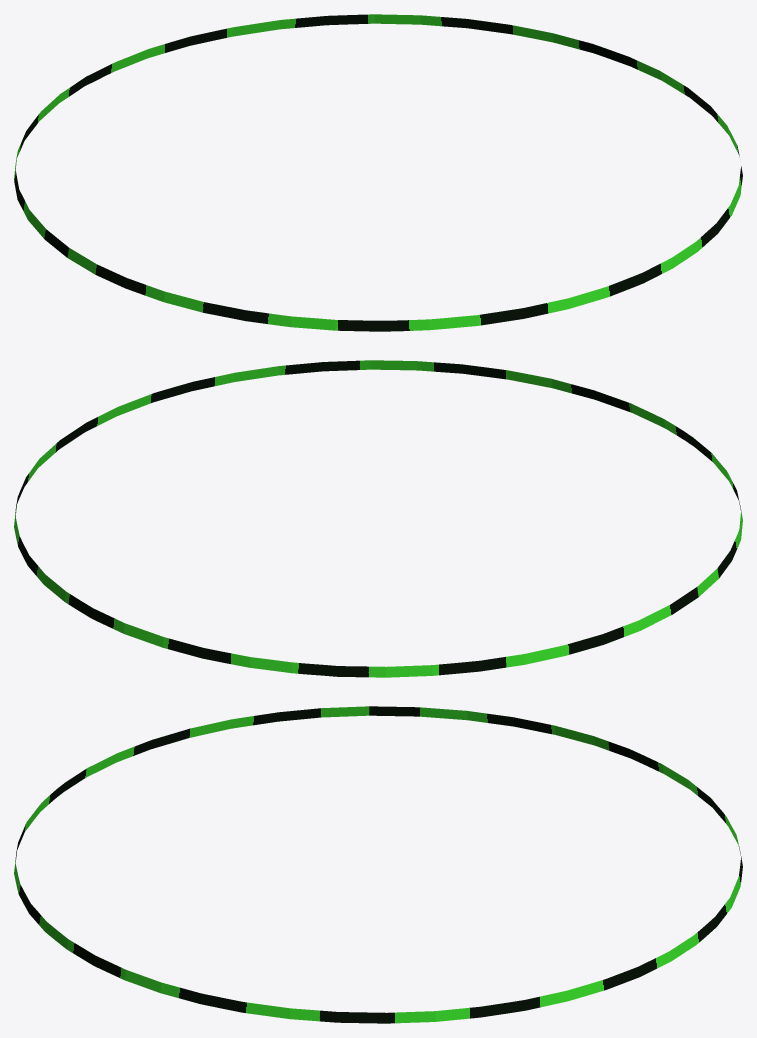
The model's file is turn order indicator1.glb.
3 views of the same model, one above another, from view 1: azimuth 30°, elevation 25°; view 2: azimuth 150°, elevation 25°; view 3: azimuth 270°, elevation 25° (orthographic).
Parts seen in each view (by area): view 1: turn order indicator mesh; view 2: turn order indicator mesh; view 3: turn order indicator mesh.
Boxes of the visible parts, x1=… form: turn order indicator mesh: x1=14, y1=14, x2=742, y2=331; turn order indicator mesh: x1=14, y1=360, x2=742, y2=677; turn order indicator mesh: x1=14, y1=706, x2=742, y2=1023.
Size of the model in its own units: 10.89 by 0.1667 by 10.89.
Materials: 1 (1 with a texture image).
